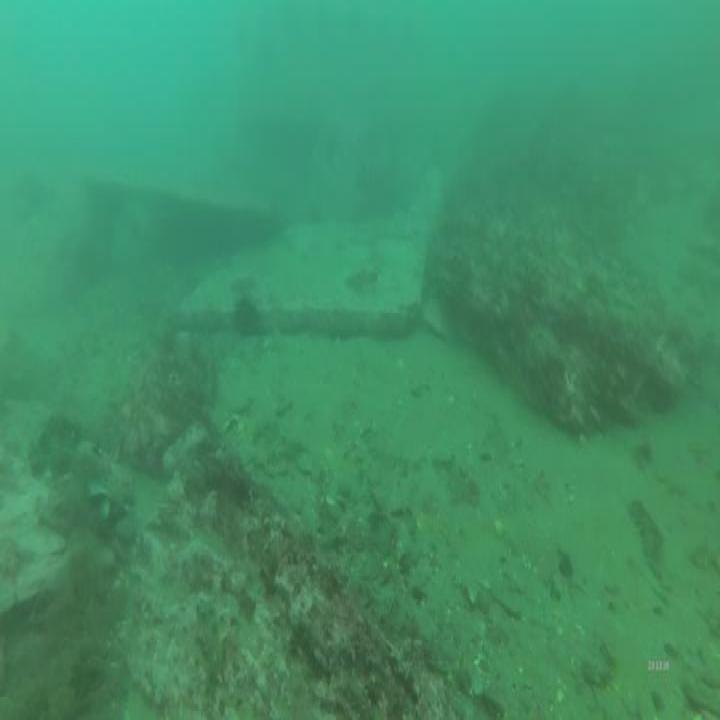echinus: (234, 290, 260, 334)
starfish: (89, 466, 133, 528)
